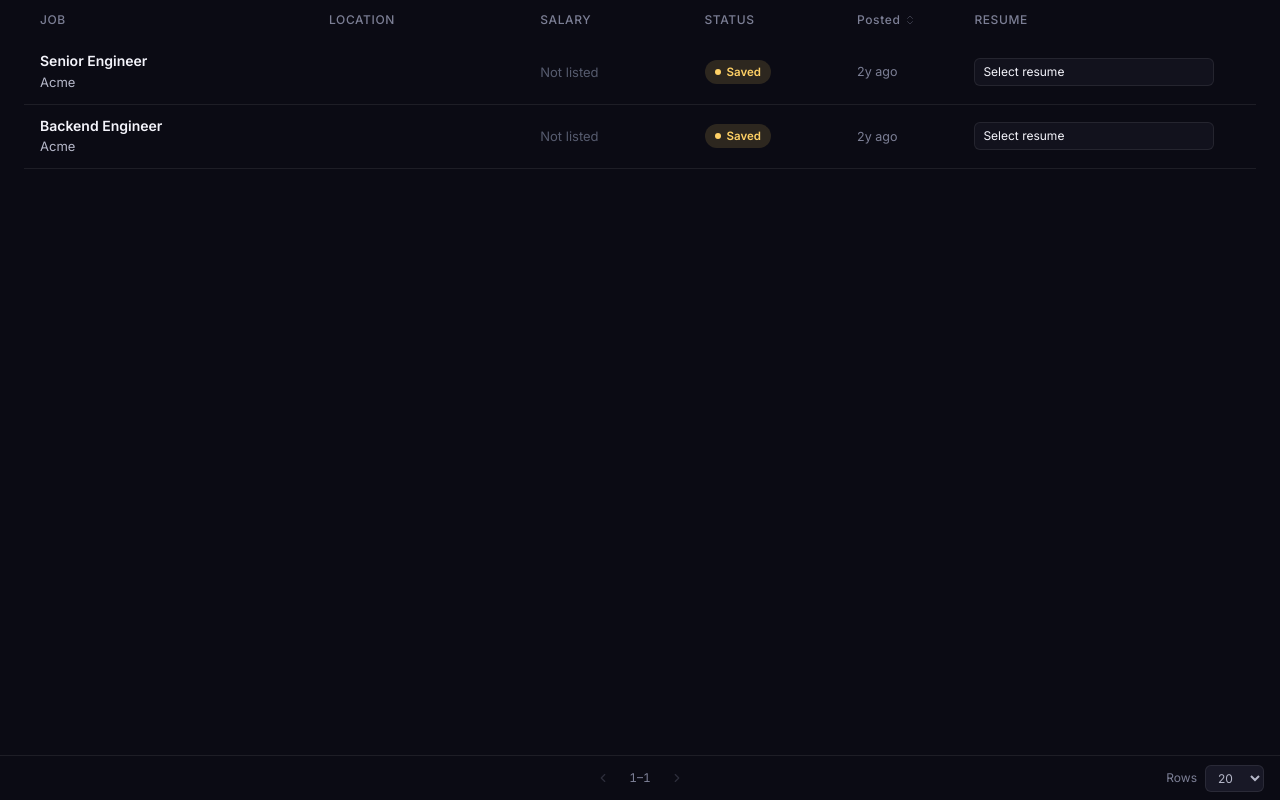
Scenario: ApplyQueueTable › resume-picker dialog wiring › shows job B's data (not stale job A data) when switching active job
Click the button "Select resume" in the row of "Senior Engineer" at (1094, 72), box top-left (974, 58), bottom-right (1214, 86)
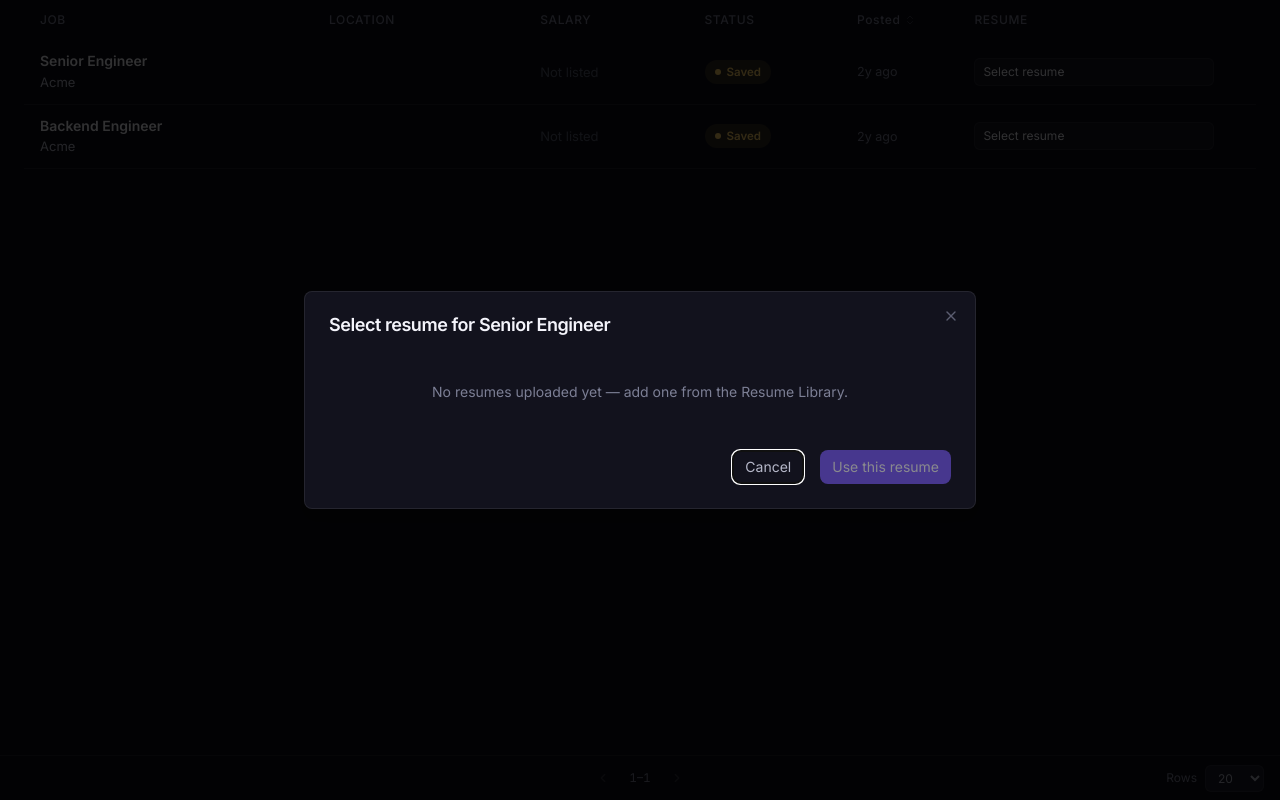
Expected: the heading "Select resume for Senior Engineer" is shown, top-left (329, 314), bottom-right (610, 335)
Press Escape
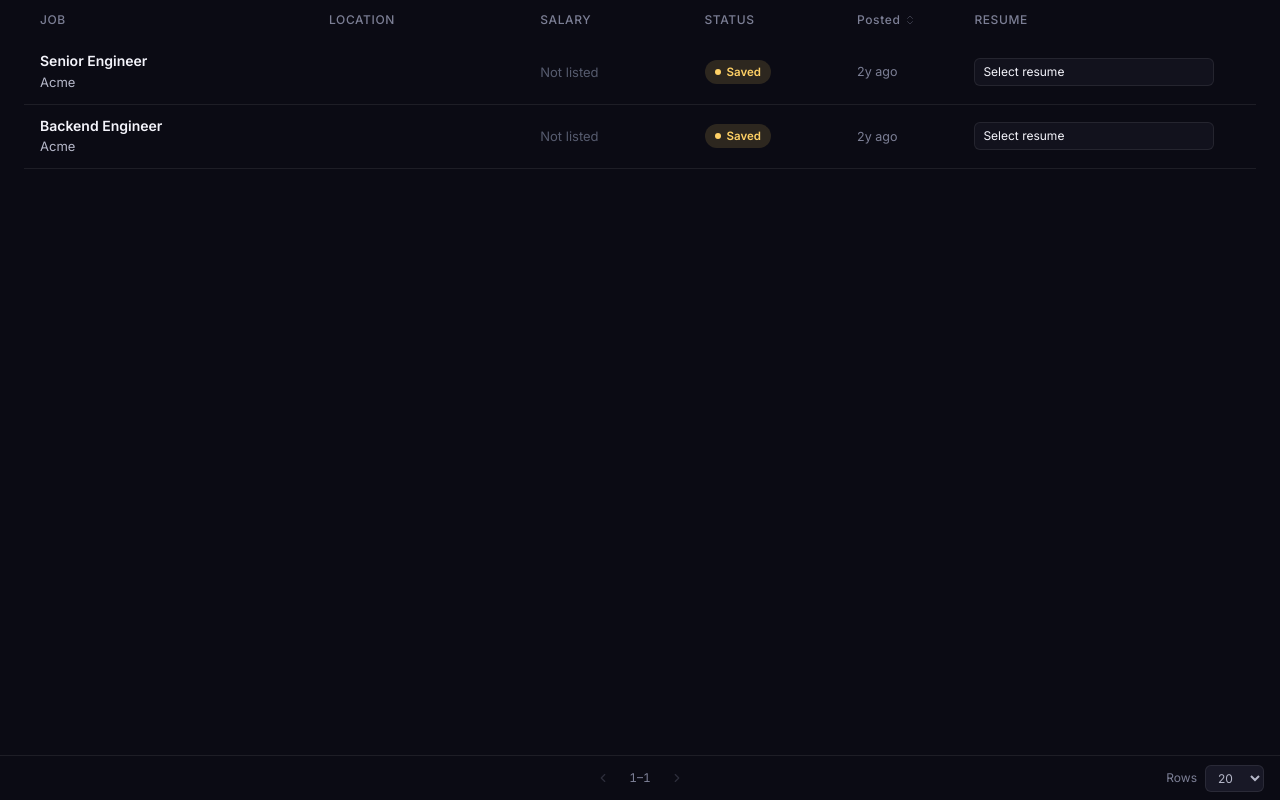
Click the button "Select resume" in the row of "Backend Engineer" at (1094, 136), box top-left (974, 122), bottom-right (1214, 150)
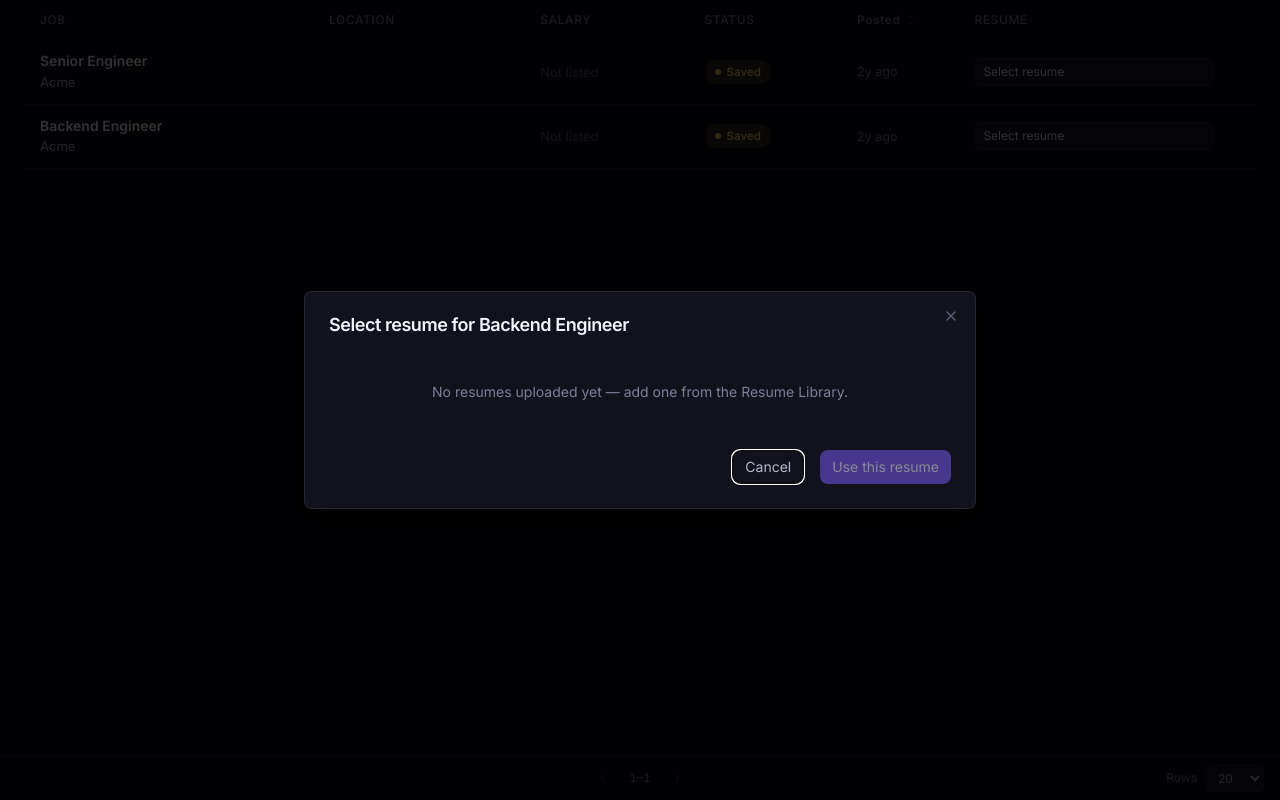
Expected: the heading "Select resume for Backend Engineer" is shown, top-left (329, 314), bottom-right (629, 335)
